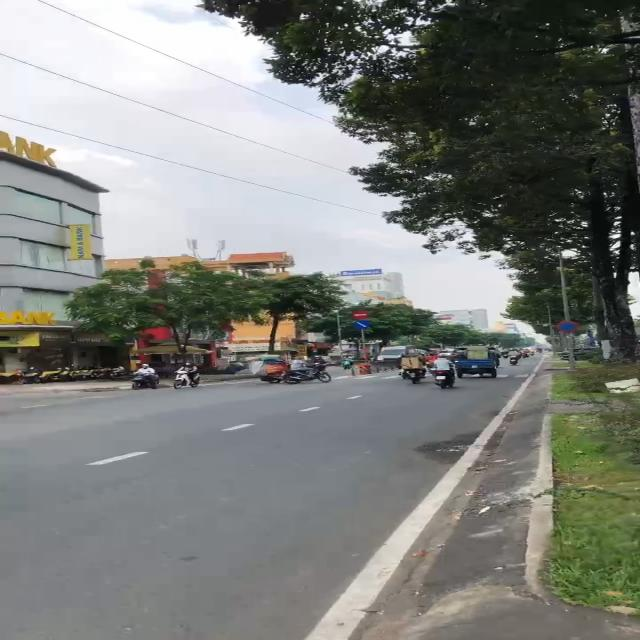Bien bao cam di nguoc chieu: (351, 309, 371, 320)
Bien bao huong phai di vong chuong ngai vat: (352, 320, 372, 331)
